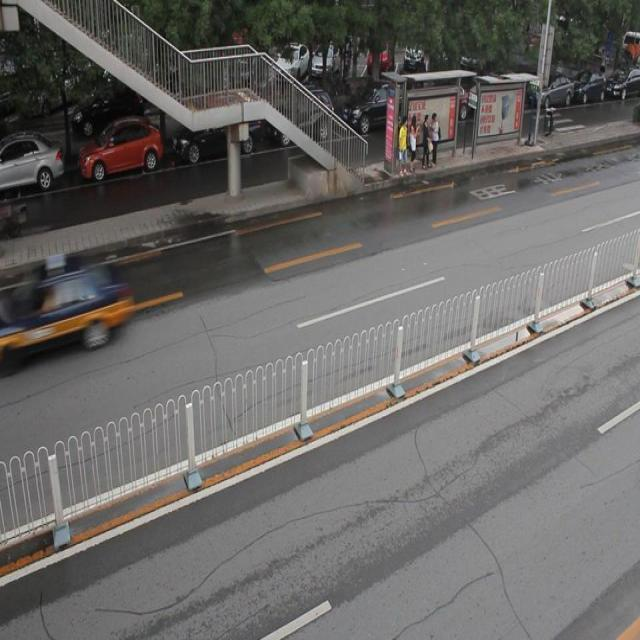car: (17, 256, 131, 359), (173, 88, 260, 161), (77, 120, 161, 181), (341, 76, 410, 130), (1, 137, 63, 197), (268, 89, 333, 144)
